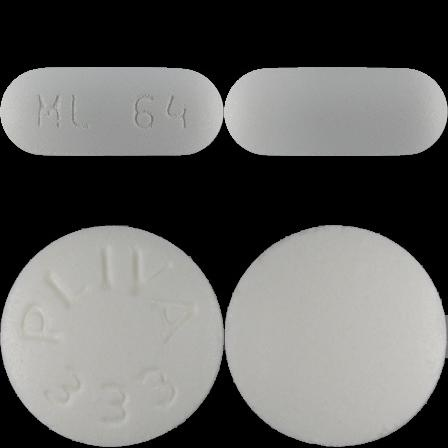76413-110: (0, 0, 224, 224)
